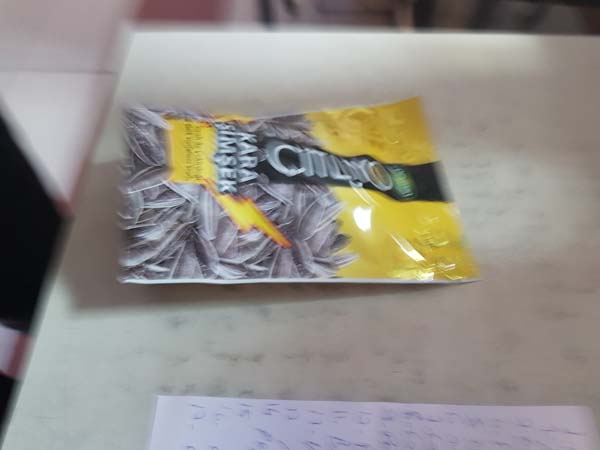citliyokarasimsek: (107, 87, 500, 303)
